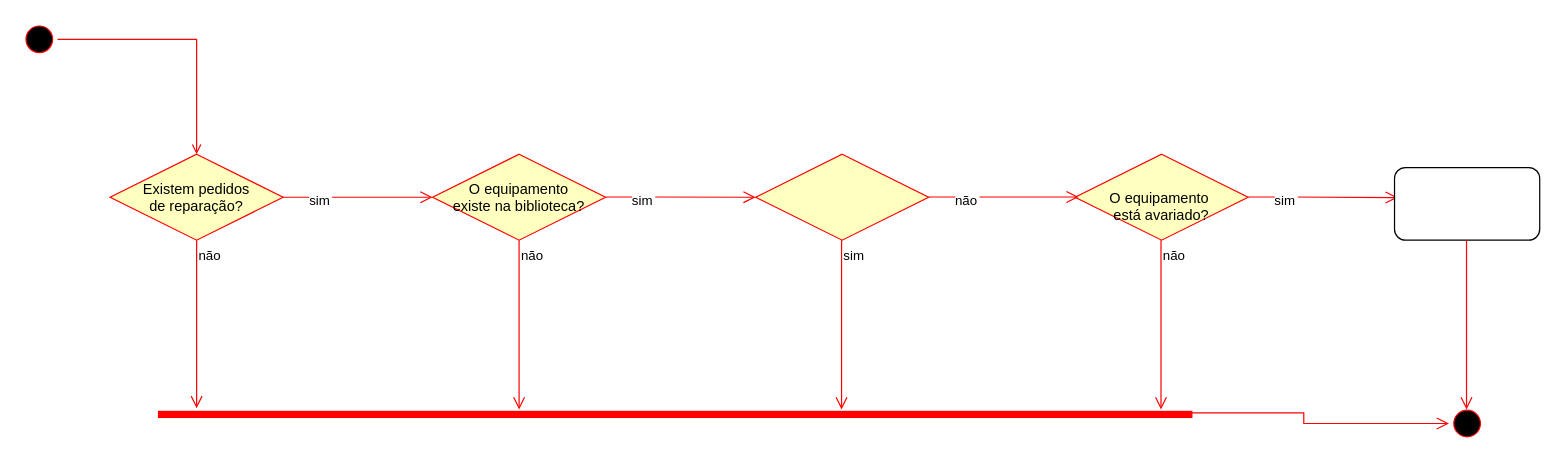
The diagram is 1561 pixels wide and 463 high, and some of its shapes have lost their labels. The centre of each missing label's shape, as x and y in pixels:
"Adicionar Equipamento na lista de equipamentos para reparação" belongs at pixel 1466 203.
"O equipamento já se encontra na lista?" belongs at pixel 841 196.
